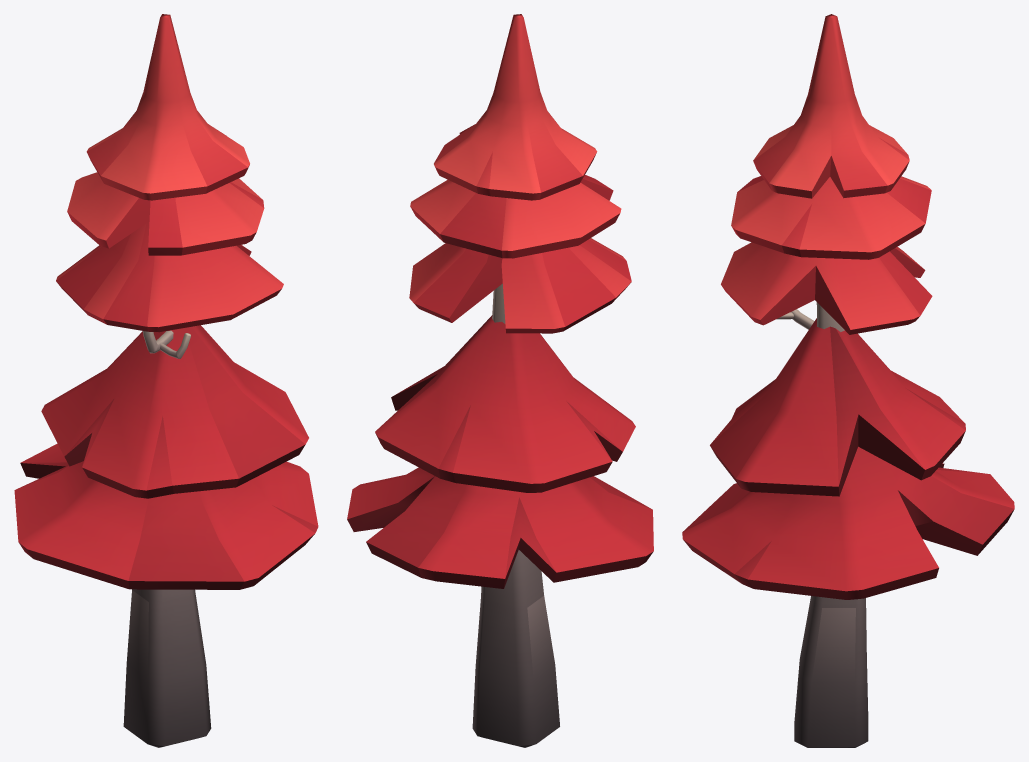
The model's file is pine_tree_col3_6.fbx.
3 views of the same model, side by side, from view 1: azimuth 30°, elevation 25°; view 2: azimuth 150°, elevation 25°; view 3: azimuth 270°, elevation 25° (orthographic).
Visible parts, largest first — view 1: pine_tree_col3_6; view 2: pine_tree_col3_6; view 3: pine_tree_col3_6.
Part boxes in pixels (bbox=[...]): pine_tree_col3_6: bbox=[14, 14, 318, 747]; pine_tree_col3_6: bbox=[347, 14, 653, 747]; pine_tree_col3_6: bbox=[682, 14, 1014, 747].
Size of the model in its own units: 432 by 1030 by 431.
1 material, 1 textured.
